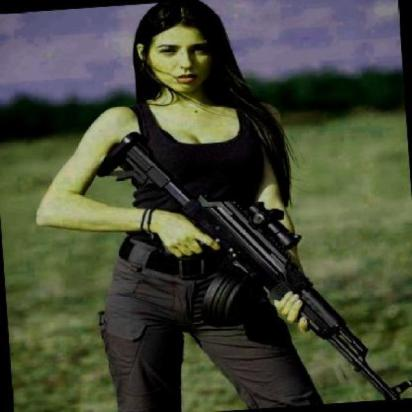Gun: (92, 107, 412, 412)
